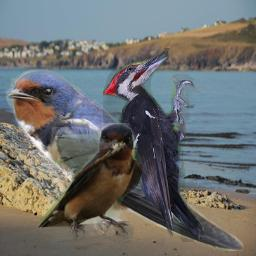Swallow: (5, 69, 244, 251), (37, 123, 142, 243)
Woodpecker: (103, 48, 204, 242)
